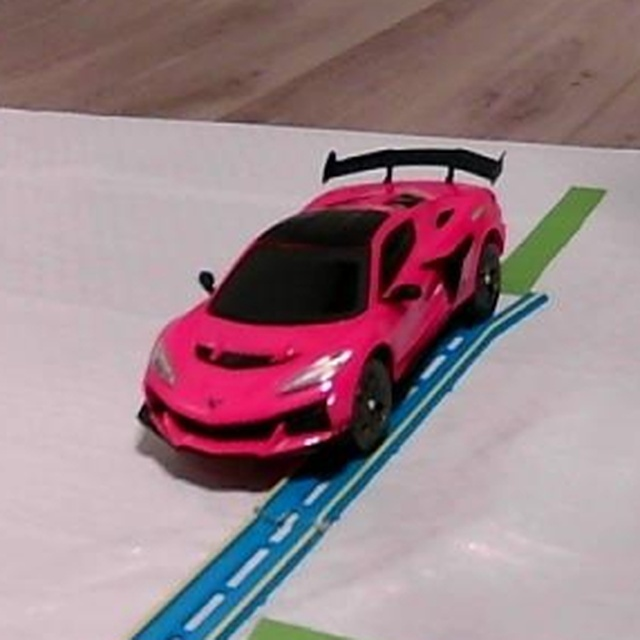tire_front_driver: (345, 355, 395, 455)
tire_rear_driver: (468, 240, 505, 325)
